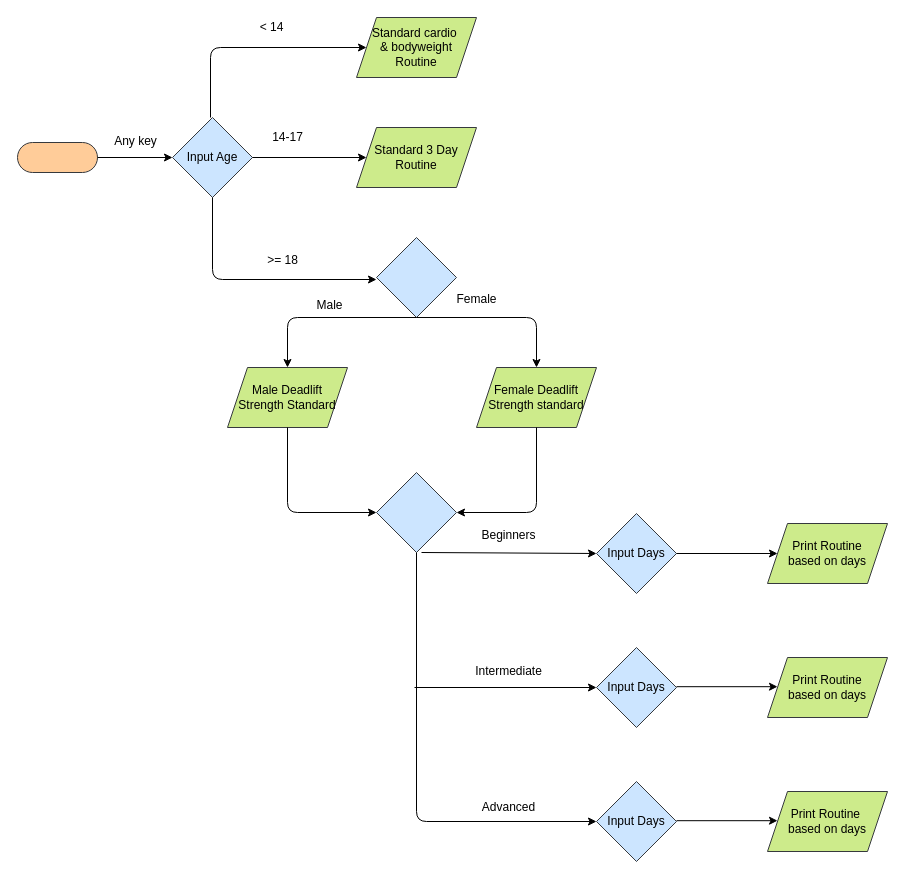
Some shapes in this 905 by 879 pixel diagram are drawn without their labels. Each missing label, with the centre of its shape:
"Home Page" goes at point (57, 157).
"Input Sex" goes at point (416, 277).
"Input Strength" goes at point (416, 512).
